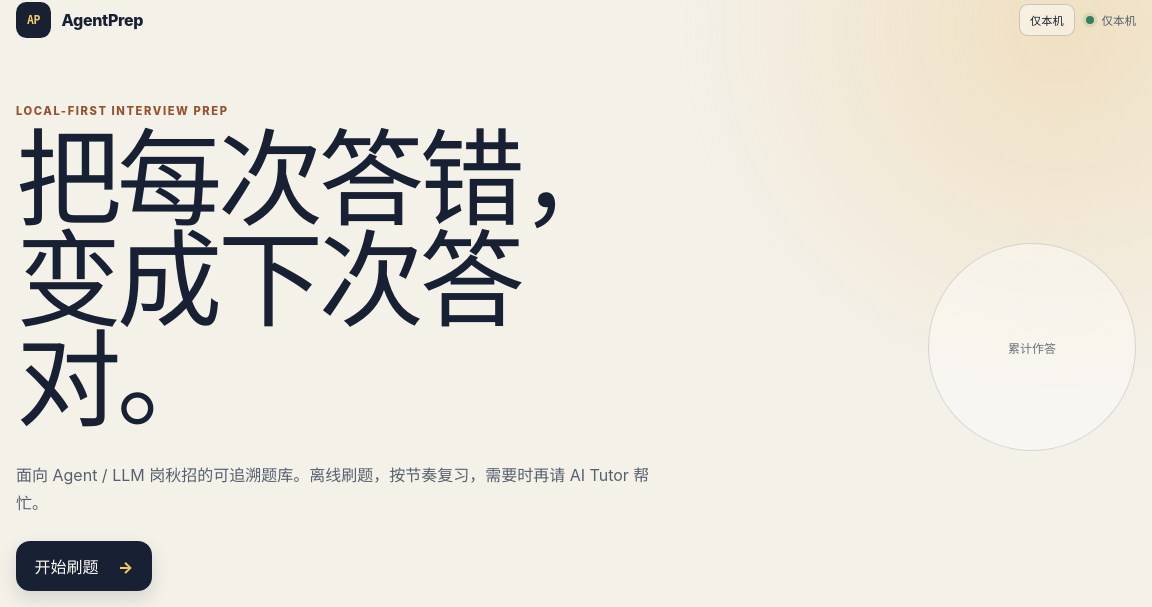
App › starts a local practice without revealing the answer before submission
The width and height of the screenshot is (1152, 607).
Click the button "开始刷题 →".
click(84, 566)  # box [16, 540, 152, 591]
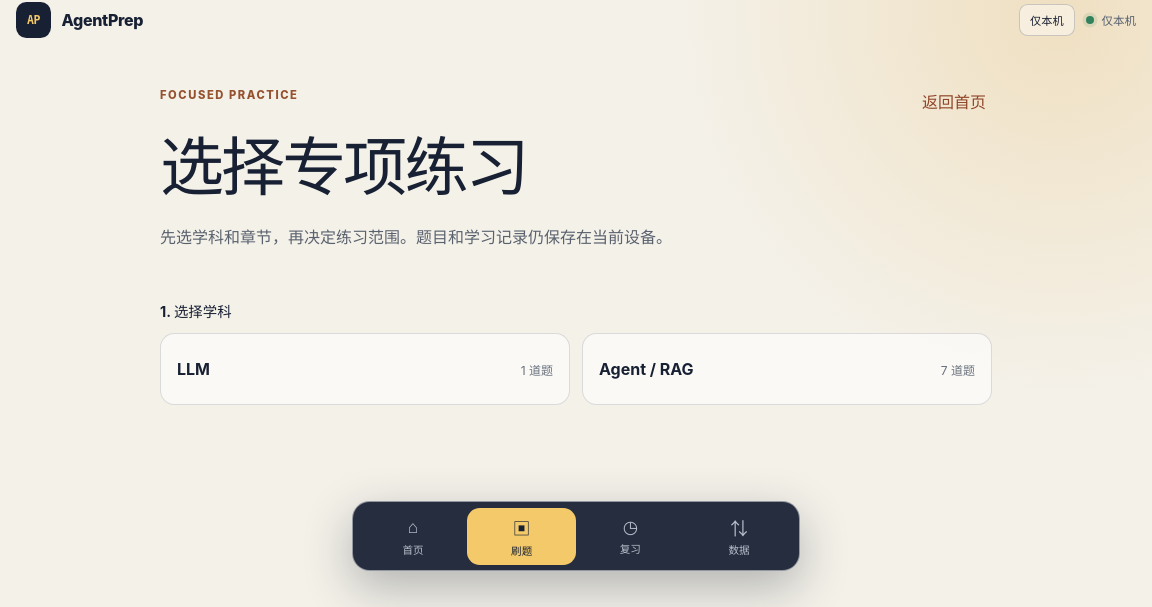
Click the button "Agent / RAG 7 道题".
click(646, 369)  # box [582, 333, 992, 405]
(page scrolled)
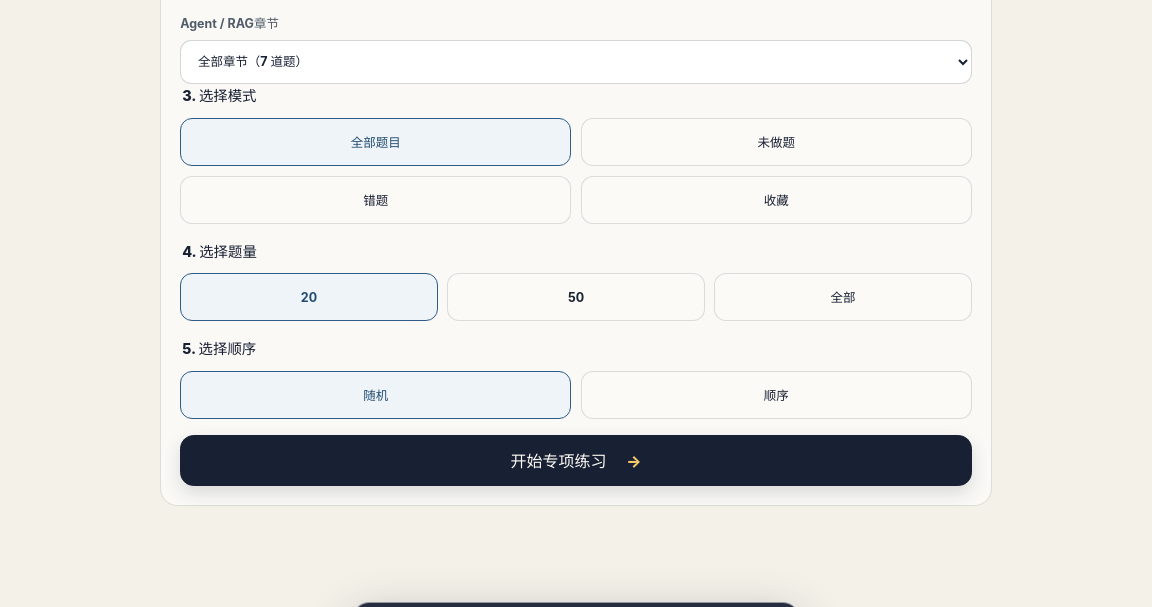
Click the radio button labelled "顺序".
click(776, 395)  # box [581, 371, 972, 419]
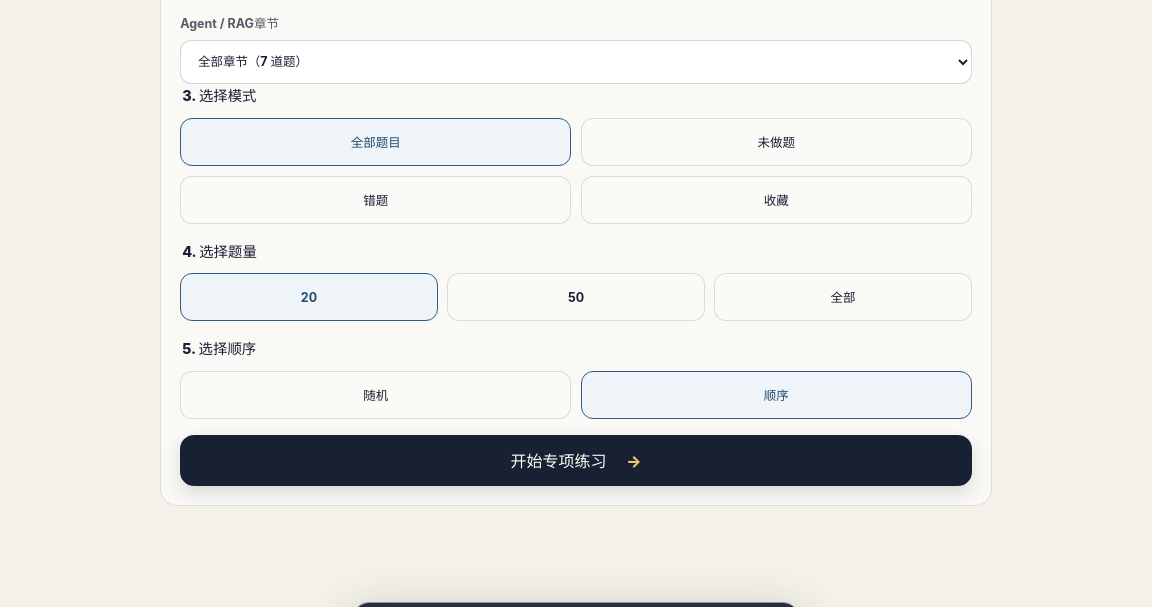
Click the button "开始专项练习 →".
click(576, 460)  # box [180, 435, 972, 486]
(page scrolled)
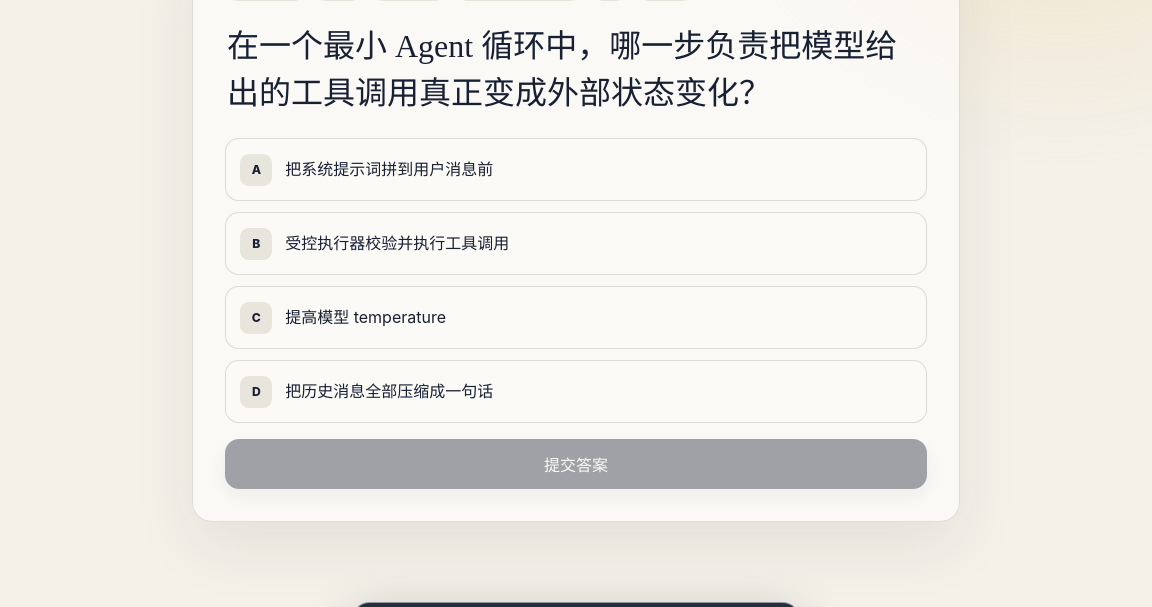
Expected: the text "模型只能提出结构化工具调用" is not shown
Expected: the text "受控执行器校验并执行工具调用" is shown, [285, 233, 509, 253]
Click the radio button labelled "B 受控执行器校验并执行工具调用".
click(256, 244)  # box [225, 212, 927, 275]
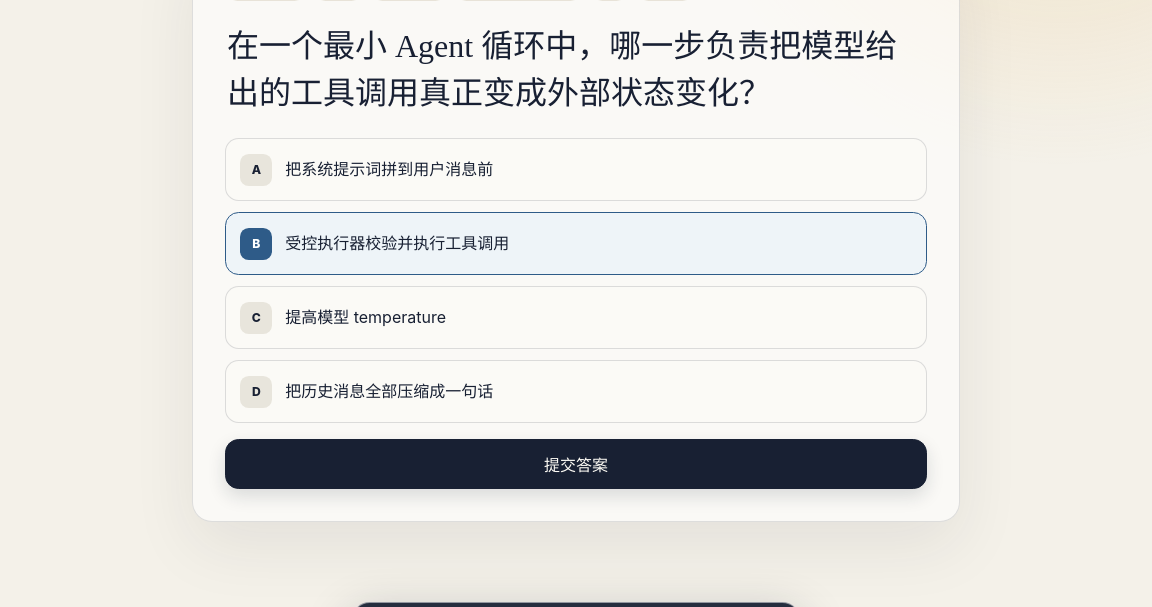
Click the button "提交答案".
click(576, 464)  # box [225, 439, 927, 489]
(page scrolled)
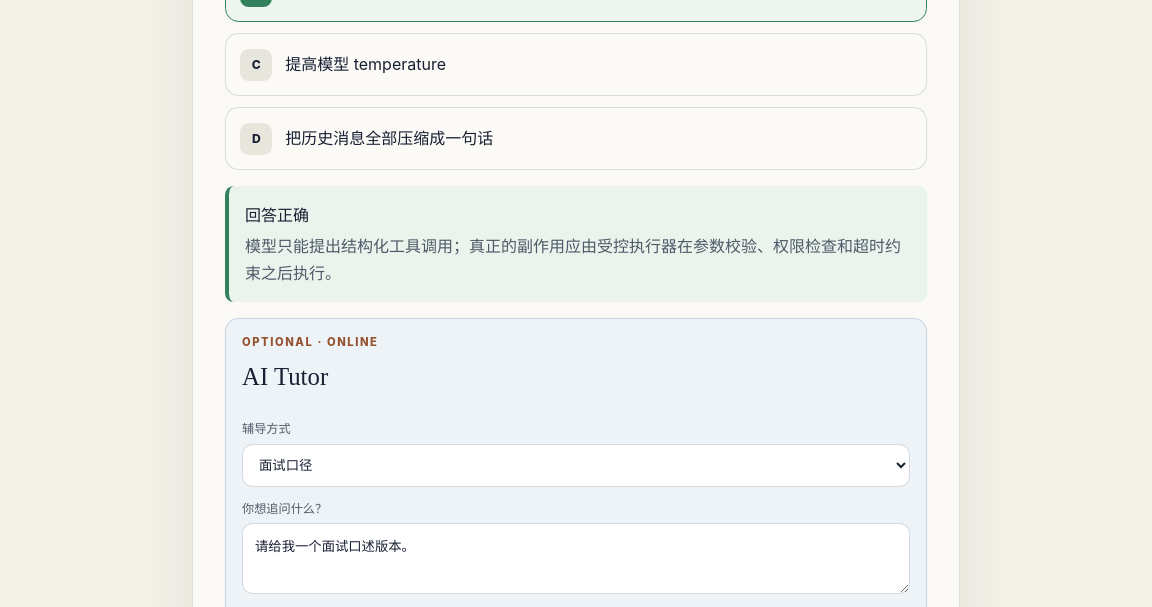
Expected: the text "回答正确" is shown, [245, 205, 309, 225]
Expected: the text "模型只能提出结构化工具调用；真正的副作用应由受控执行器在参数校验、权限检查和超时约束之后执行。" is shown, [245, 233, 911, 286]
Expected: the heading "AI Tutor" is shown, [242, 363, 328, 390]
